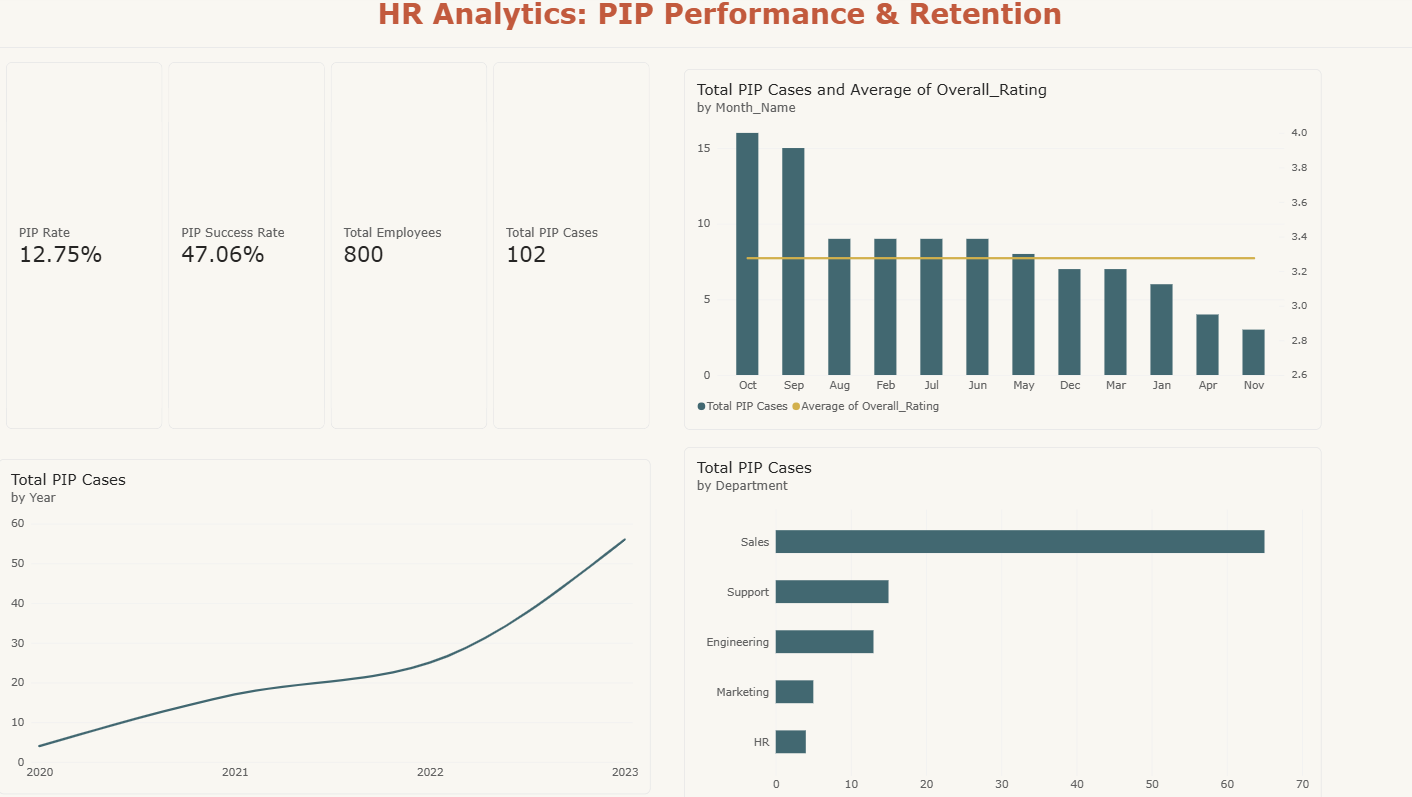

What the dashboard file says about the page in this screenshot:
{"tool":"powerbi","page":{"name":"Page 1","canvas":[1920,1080],"ordinal":0},"visuals":[{"type":"cardVisual","fields":{"Data":["pip_cases.PIP Rate","pip_cases.PIP Success Rate","pip_cases.Total Employees","pip_cases.Total PIP Cases"]},"box":[11,89.2,857.5,488.2],"z":0},{"type":"lineChart","fields":{"Category":["date_dim.Date.Variation.Date Hierarchy.Year","date_dim.Date.Variation.Date Hierarchy.Quarter","date_dim.Date.Variation.Date Hierarchy.Month","date_dim.Date.Variation.Date Hierarchy.Day"],"Y":["pip_cases.Total PIP Cases"]},"box":[0,616.5,868.5,446],"z":1000},{"type":"clusteredBarChart","fields":{"Category":["employees.Department"],"Y":["pip_cases.Total PIP Cases"]},"box":[912.3,600.9,848.1,478.8],"z":2000},{"type":"lineStackedColumnComboChart","fields":{"Category":["date_dim.Month_Name"],"Y":["pip_cases.Total PIP Cases"],"Y2":["Avg(performance_reviews.Overall_Rating)"]},"box":[912.6,97.9,847.9,480],"z":3000},{"type":"textbox","box":[0,0,1920,70.6],"z":4000}]}

Visuals, with their boxes in screenshot pixels (x1, y1, x2, y2), scaled from the page's 1920x1080 canvas onto the 1412x797 screenshot:
cardVisual - pip_cases.PIP Rate x pip_cases.PIP Success Rate: <region>8, 66, 639, 426</region>
lineChart - date_dim.Date.Variation.Date Hierarchy.Year x date_dim.Date.Variation.Date Hierarchy.Quarter: <region>0, 455, 639, 784</region>
clusteredBarChart - employees.Department x pip_cases.Total PIP Cases: <region>671, 443, 1295, 796</region>
lineStackedColumnComboChart - date_dim.Month_Name x pip_cases.Total PIP Cases: <region>671, 72, 1295, 426</region>
textbox: <region>0, 0, 1411, 52</region>
